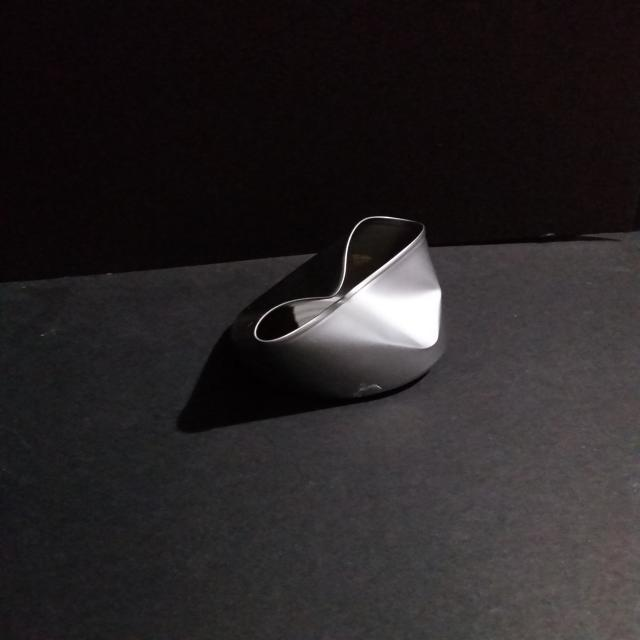metal-can: (248, 208, 447, 405)
